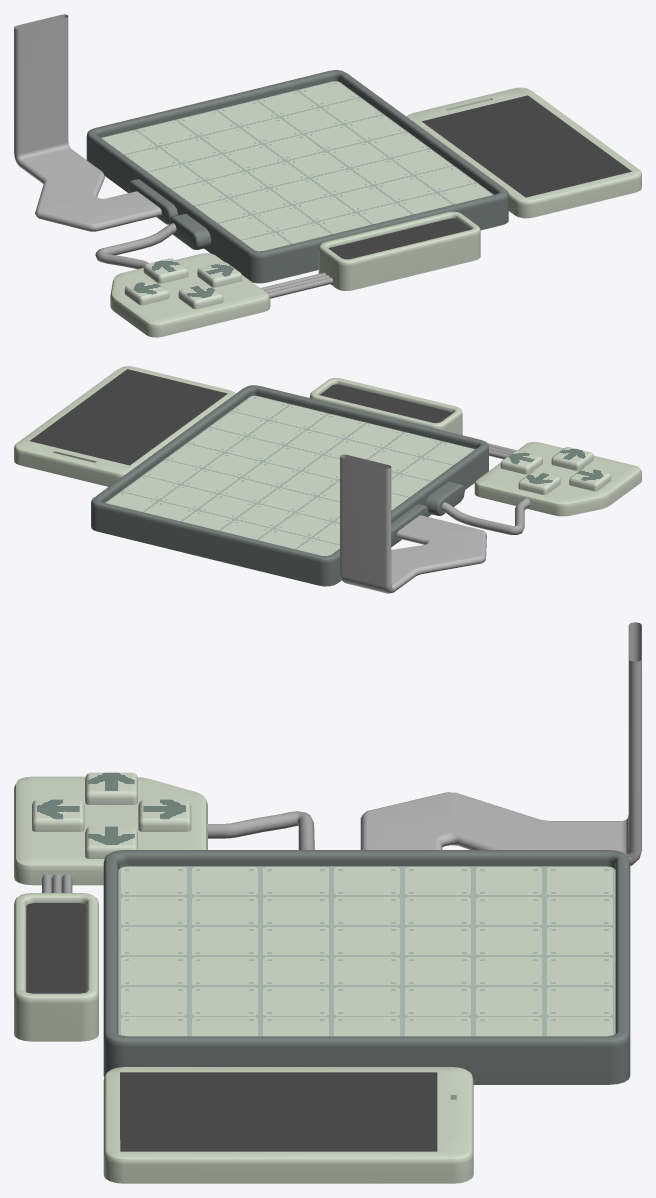
The model's file is meshLevelTemplate_6x6.fbx.
3 renders of one model, top to bottom at view 1: azimuth 30°, elevation 25°; view 2: azimuth 150°, elevation 25°; view 3: azimuth 270°, elevation 25°, orthographic. The views are drawn at different scales.
Parts seen in each view (by area): view 1: meshTiles, meshTilesBorder, meshWire, meshPhoneScreen, meshComboBody, meshControllerBody, meshPhoneBody, meshComboScreen, meshControllerWireA, meshControllerPlug, meshControllerWireB, meshControllerButtonDown (+4 smaller); view 2: meshTiles, meshTilesBorder, meshWire, meshPhoneScreen, meshControllerBody, meshPhoneBody, meshComboBody, meshComboScreen, meshControllerWireA, meshControllerPlug, meshControllerButtonLeft, meshControllerButtonUp (+3 smaller); view 3: meshTiles, meshTilesBorder, meshPhoneScreen, meshPhoneBody, meshWire, meshControllerBody, meshComboBody, meshComboScreen, meshControllerWireA, meshControllerButtonUp, meshControllerButtonLeft, meshControllerButtonDown (+1 smaller).
Part boxes in pixels (x1,y1,x2,y2): meshTiles: [101, 81, 493, 251]; meshTilesBorder: [86, 70, 508, 283]; meshWire: [14, 14, 161, 231]; meshPhoneScreen: [422, 95, 631, 197]; meshComboBody: [318, 211, 480, 290]; meshControllerBody: [110, 253, 270, 337]; meshPhoneBody: [406, 87, 641, 218]; meshComboScreen: [328, 218, 470, 259]; meshControllerWireA: [95, 223, 176, 269]; meshControllerPlug: [168, 214, 211, 249]; meshControllerWireB: [260, 272, 333, 298]; meshControllerButtonDown: [178, 284, 223, 309]; meshTiles: [105, 395, 475, 555]; meshTilesBorder: [91, 385, 488, 586]; meshWire: [340, 454, 486, 593]; meshPhoneScreen: [30, 369, 227, 465]; meshControllerBody: [474, 442, 641, 516]; meshPhoneBody: [14, 366, 235, 486]; meshComboBody: [309, 378, 462, 435]; meshComboScreen: [319, 384, 452, 422]; meshControllerWireA: [441, 498, 530, 534]; meshControllerPlug: [425, 481, 464, 515]; meshControllerButtonLeft: [569, 467, 611, 491]; meshControllerButtonUp: [518, 471, 560, 494]; meshTiles: [118, 866, 615, 1036]; meshTilesBorder: [103, 850, 630, 1084]; meshPhoneScreen: [120, 1072, 437, 1151]; meshPhoneBody: [103, 1067, 473, 1183]; meshWire: [360, 622, 641, 865]; meshControllerBody: [14, 776, 207, 885]; meshComboBody: [14, 893, 98, 1041]; meshComboScreen: [26, 903, 86, 993]; meshControllerWireA: [206, 811, 314, 849]; meshControllerButtonUp: [138, 799, 191, 831]; meshControllerButtonLeft: [85, 772, 137, 804]; meshControllerButtonDown: [32, 799, 84, 831].
Size of what is drawn, in the model's own units: 12.97 by 3.45 by 8.84.
